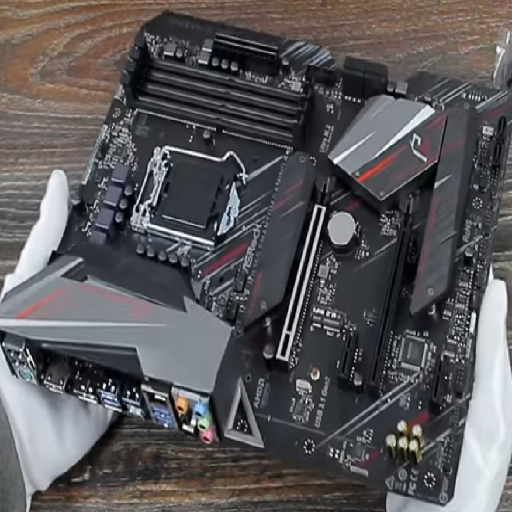CPU: (124, 138, 249, 266)
GPU: (262, 175, 338, 374), (359, 182, 424, 396)
MOTHERBOARD: (3, 3, 507, 512)
RAM: (110, 36, 321, 149)
